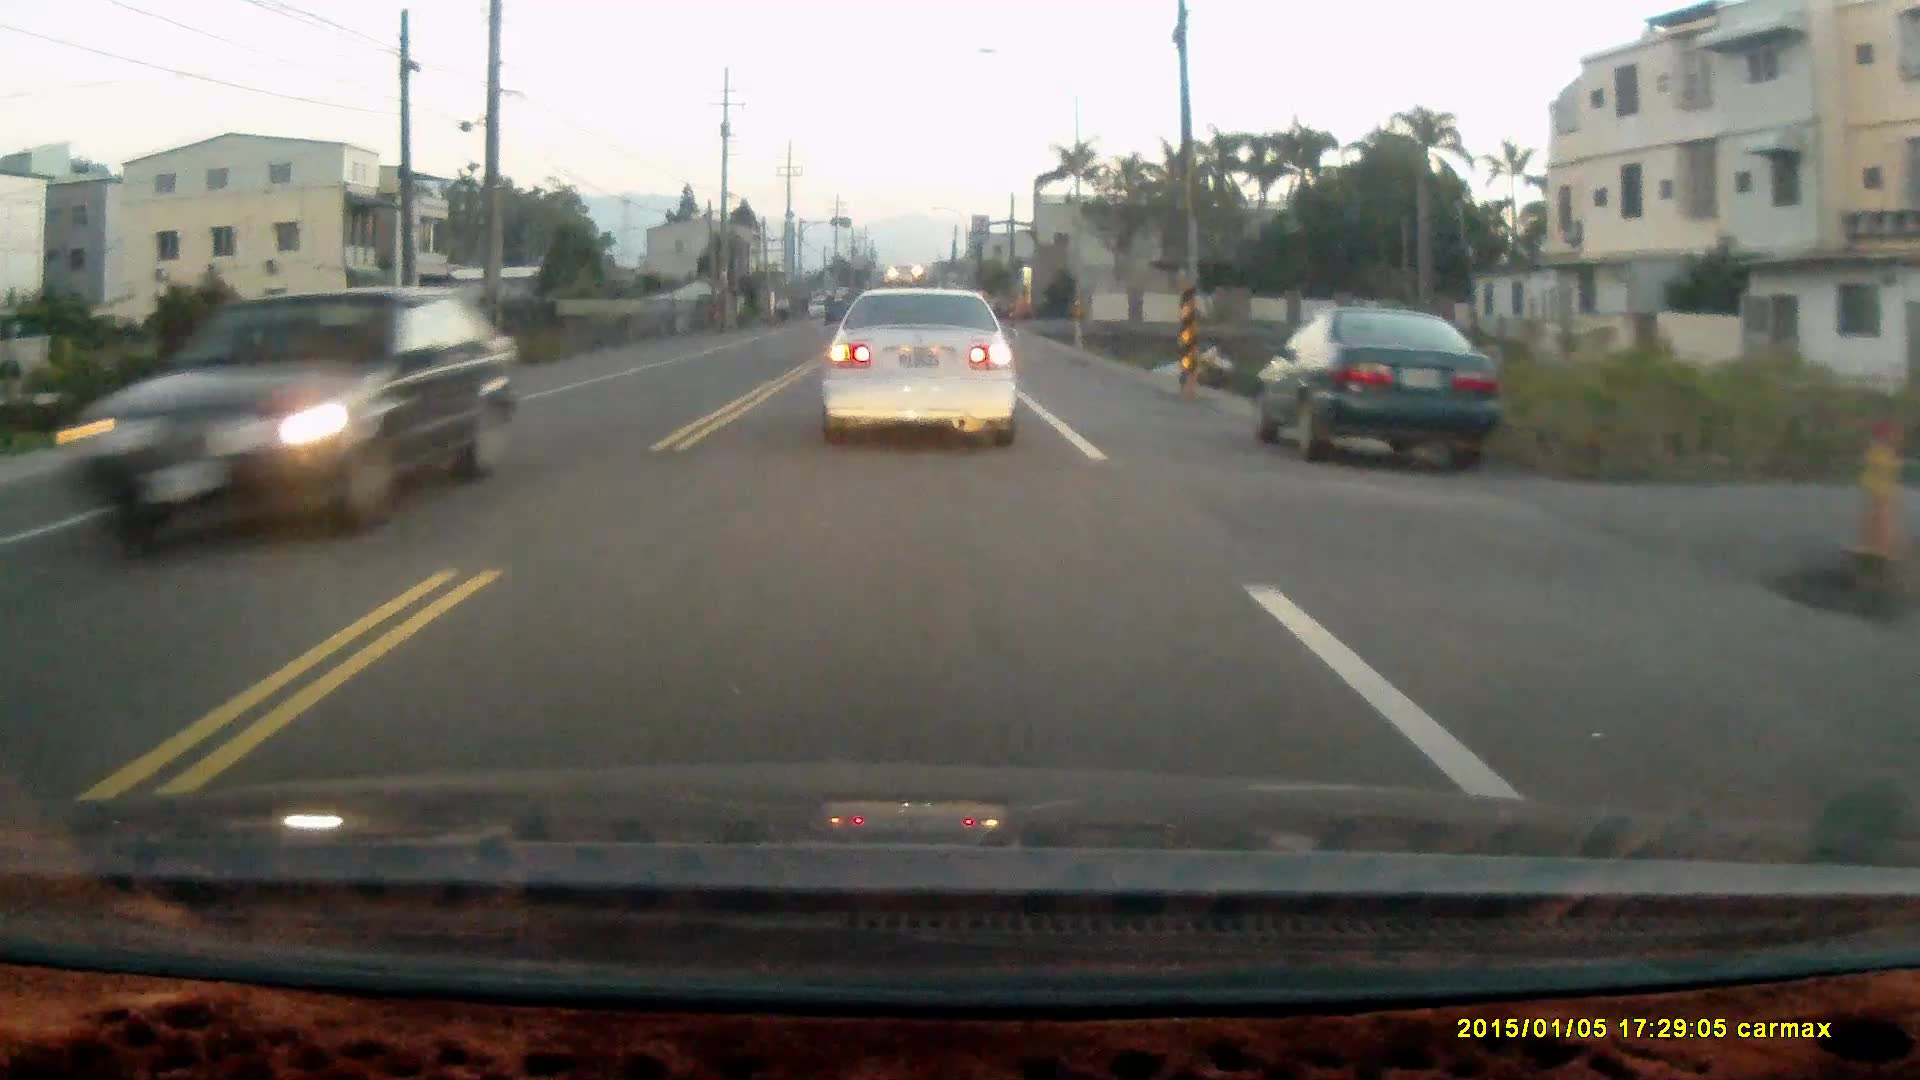vehicle: (75, 287, 506, 555), (1251, 305, 1499, 469), (820, 284, 1015, 444)
